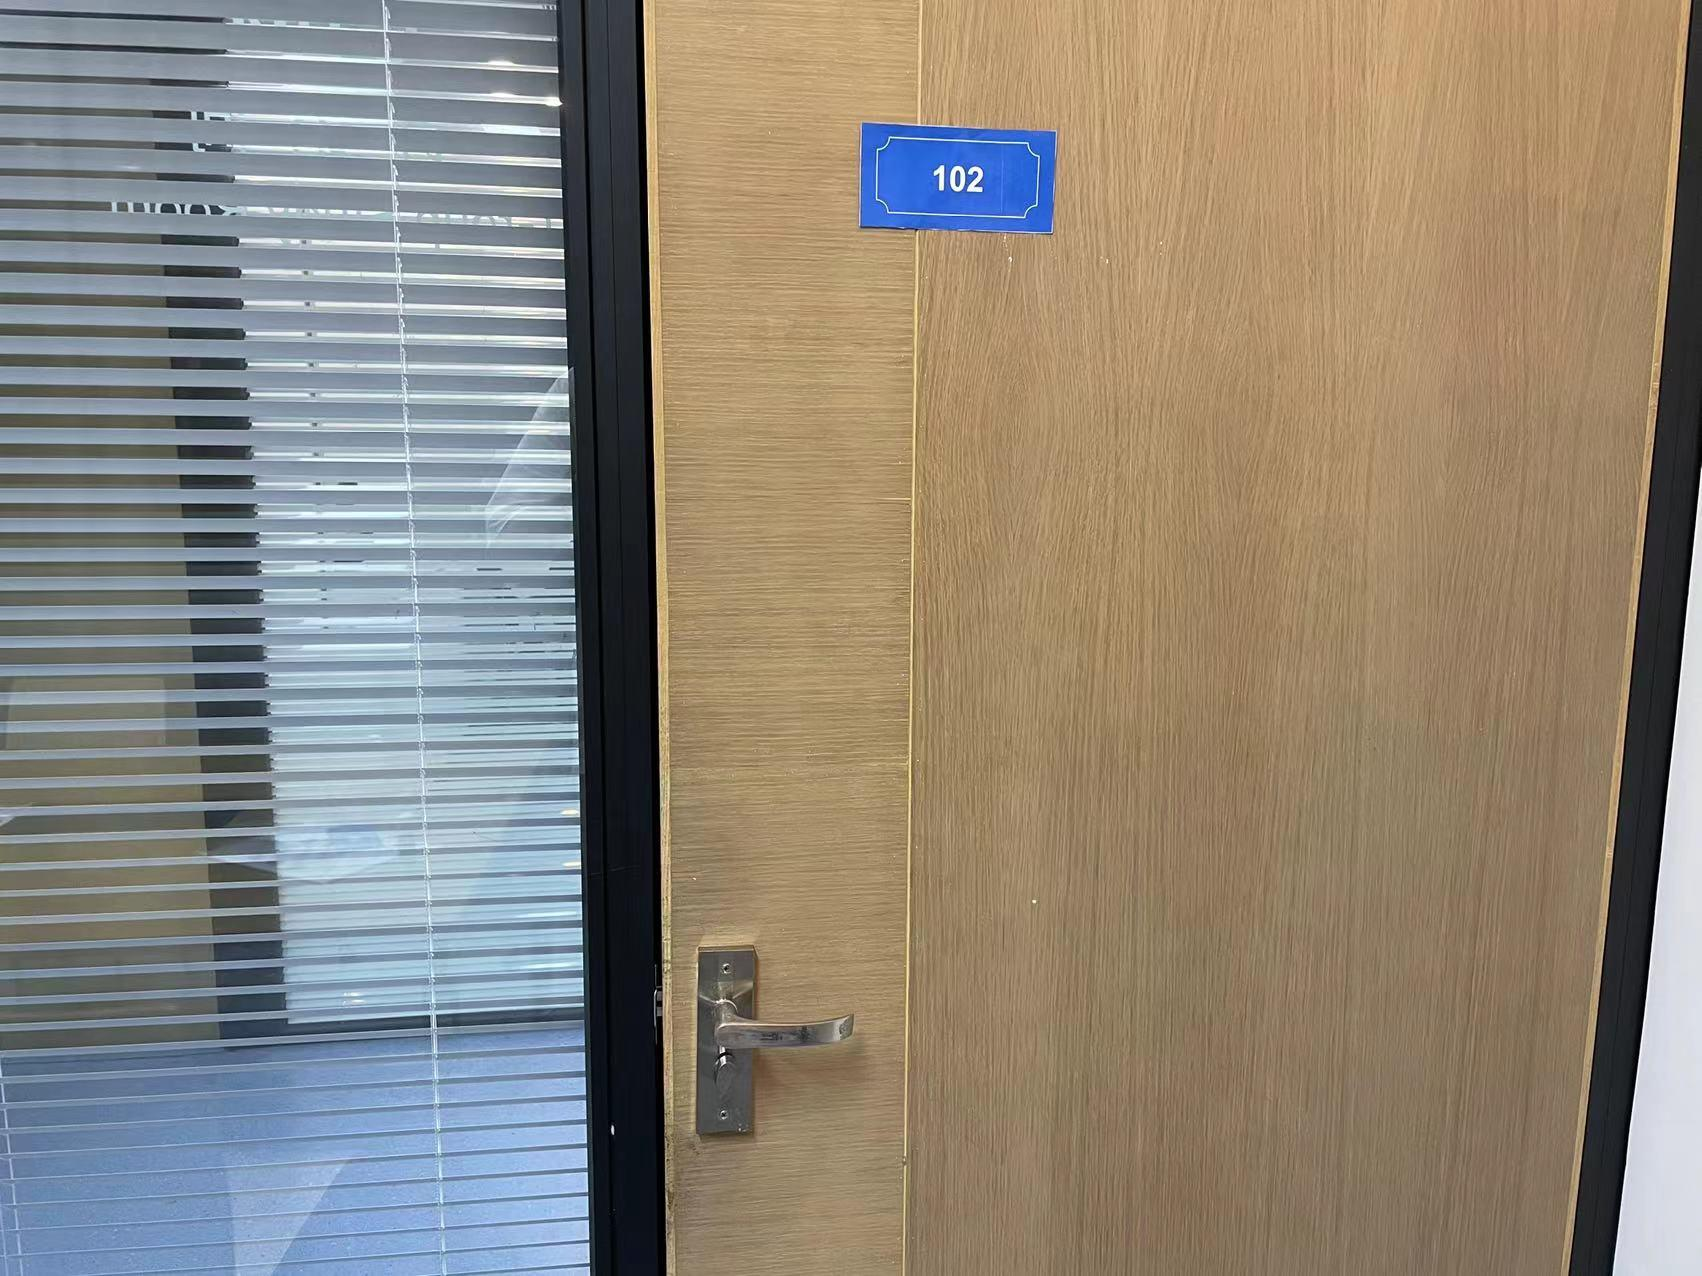Card: (851, 101, 1068, 247)
